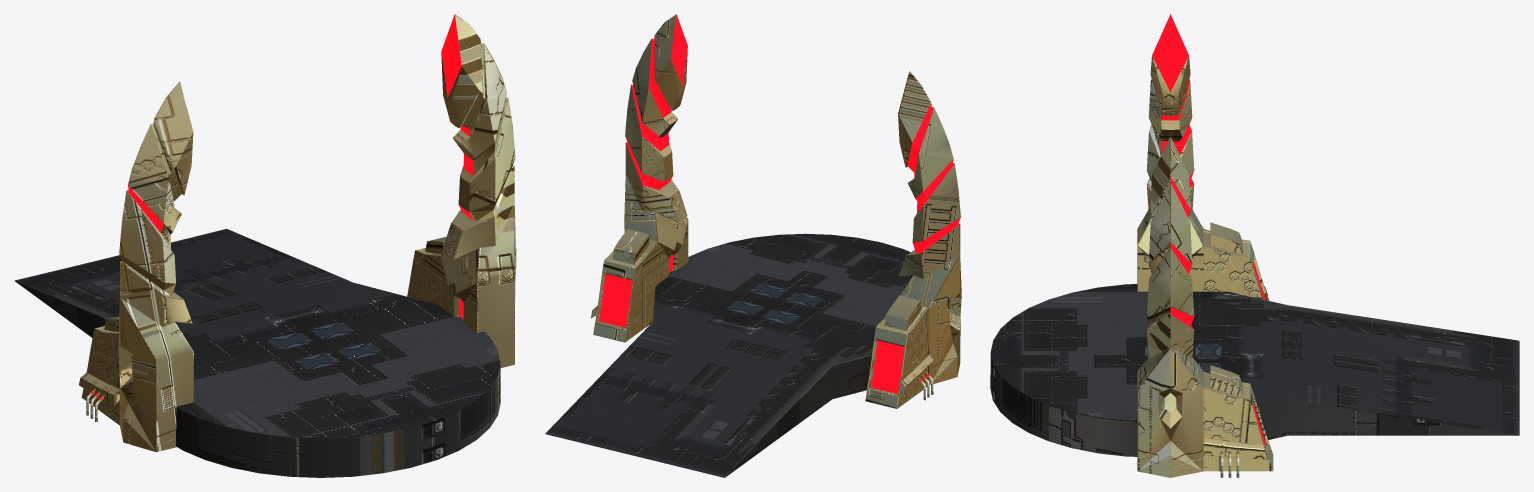
Rendered from Portal Frame.glb.
3 views of the same model, side by side, from view 1: azimuth 30°, elevation 25°; view 2: azimuth 150°, elevation 25°; view 3: azimuth 270°, elevation 25° (orthographic). The views are drawn at different scales.
Visible parts, largest first — view 1: Scrapyard Portal Frame; view 2: Scrapyard Portal Frame; view 3: Scrapyard Portal Frame.
Boxes of the visible parts, bbox=[...] form: Scrapyard Portal Frame: bbox=[15, 14, 516, 477]; Scrapyard Portal Frame: bbox=[545, 14, 961, 477]; Scrapyard Portal Frame: bbox=[990, 14, 1519, 477].
Size of what is drawn, in the model's own units: 14.43 by 12.1 by 18.33.
Materials: 2 (1 with a texture image).
